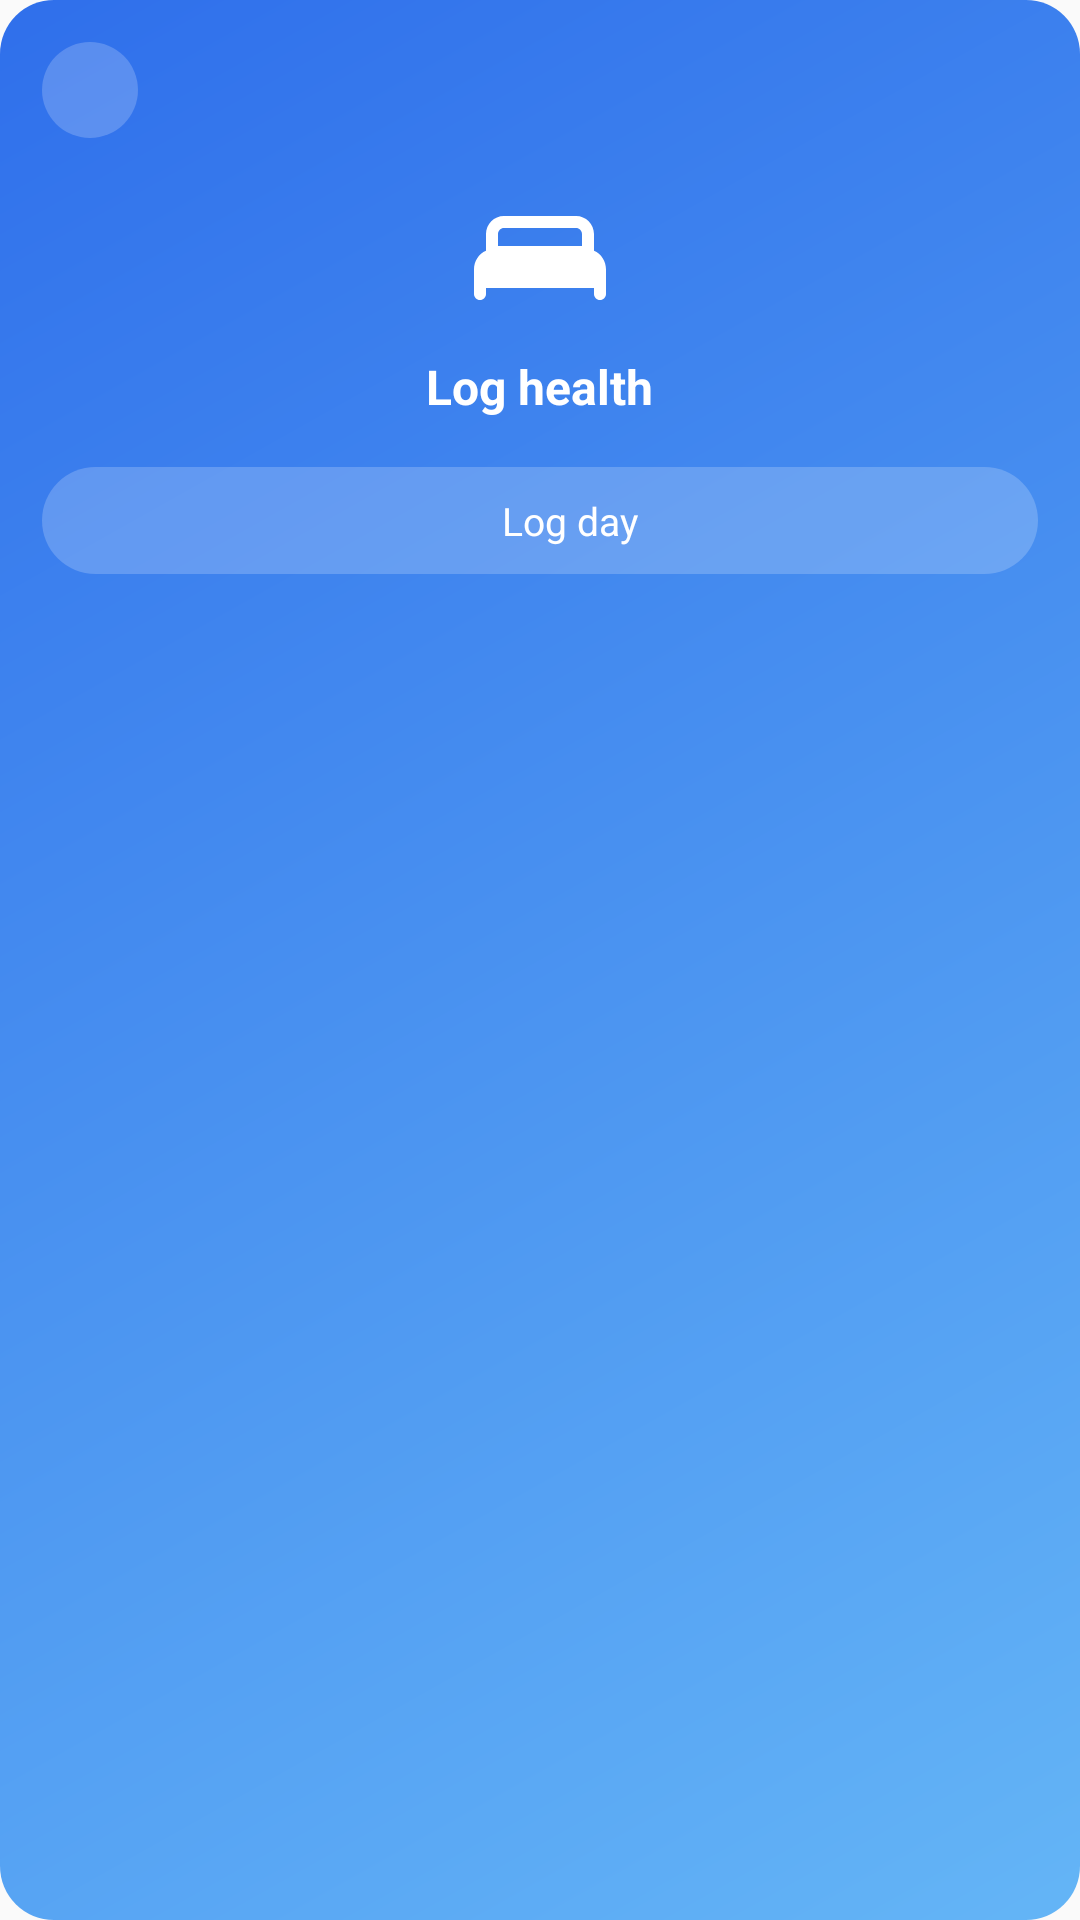

Icon click points for this 1080px x 1920px phone screenshot, format (x,y):
widget bed: (540,258)
